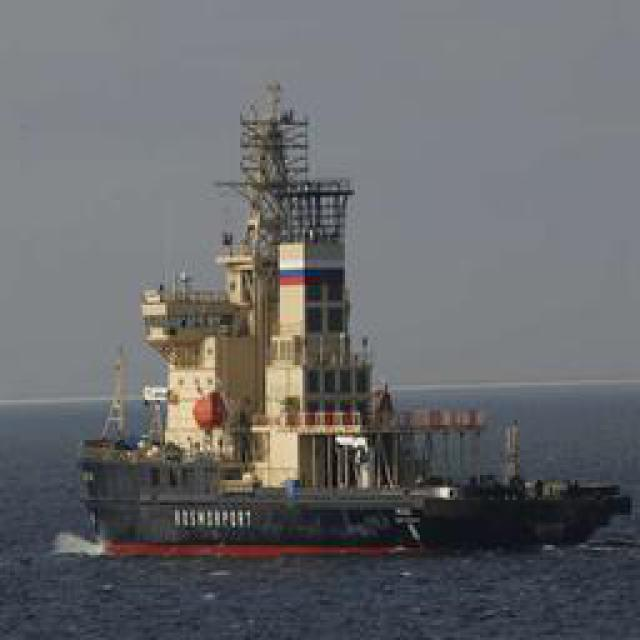Ship: (85, 102, 634, 566)
